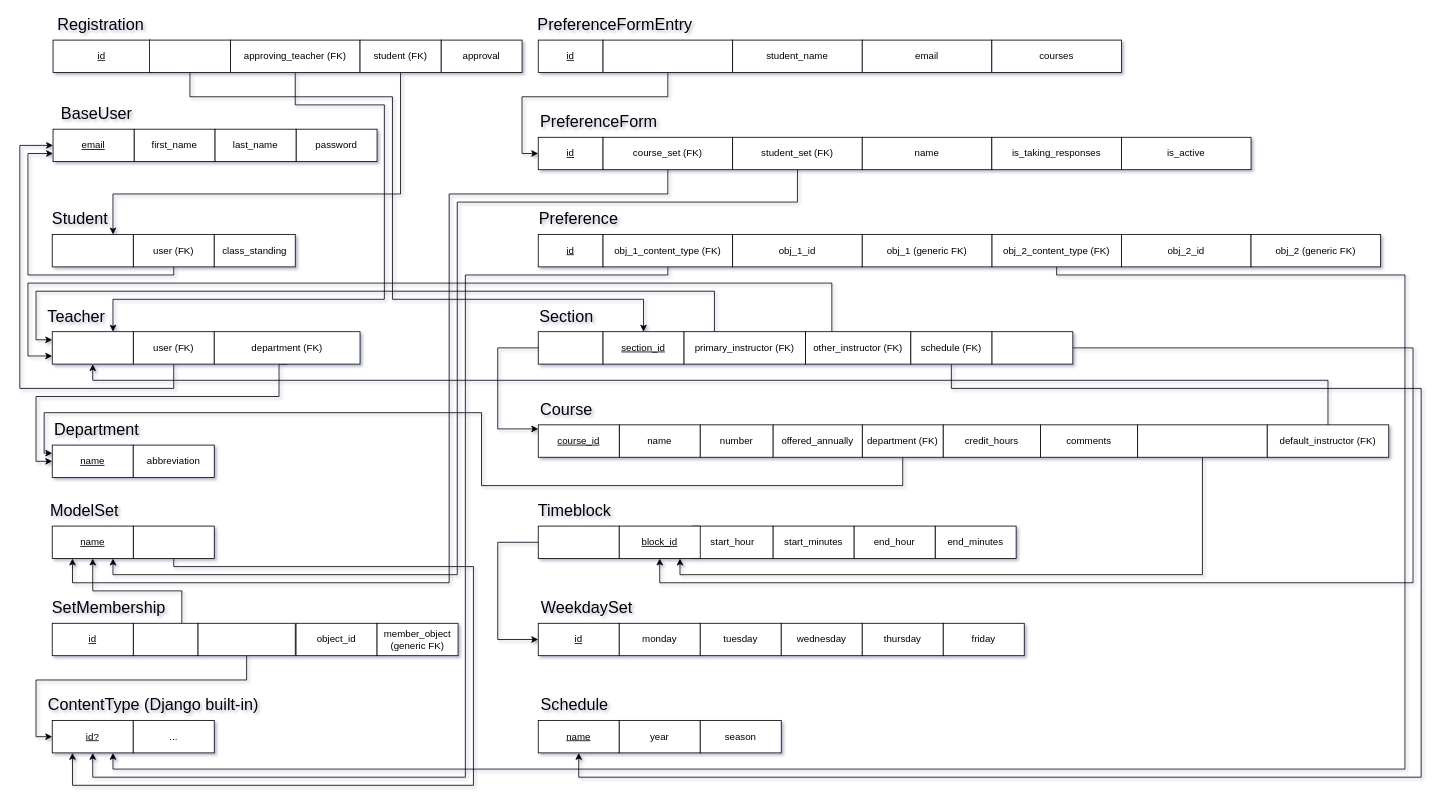
This 1447x811 diagram has some shape labels left out. Here are the shapes that lost their labels. From the top down, the centre of each, then its label:
At pixel 189 55: "section (FK)".
At pixel 667 55: "preference_form (FK)".
At pixel 92 250: "student_id".
At pixel 92 347: "teacher_id".
At pixel 570 347: "course (FK)".
At pixel 1032 347: "timeblock (FK)".
At pixel 1202 440: "default_timeblock (FK)".
At pixel 173 541: "obj_type (FK)".
At pixel 578 541: "weekdays (FK)".
At pixel 165 639: "set (FK)".
At pixel 246 639: "content_type (FK)".
